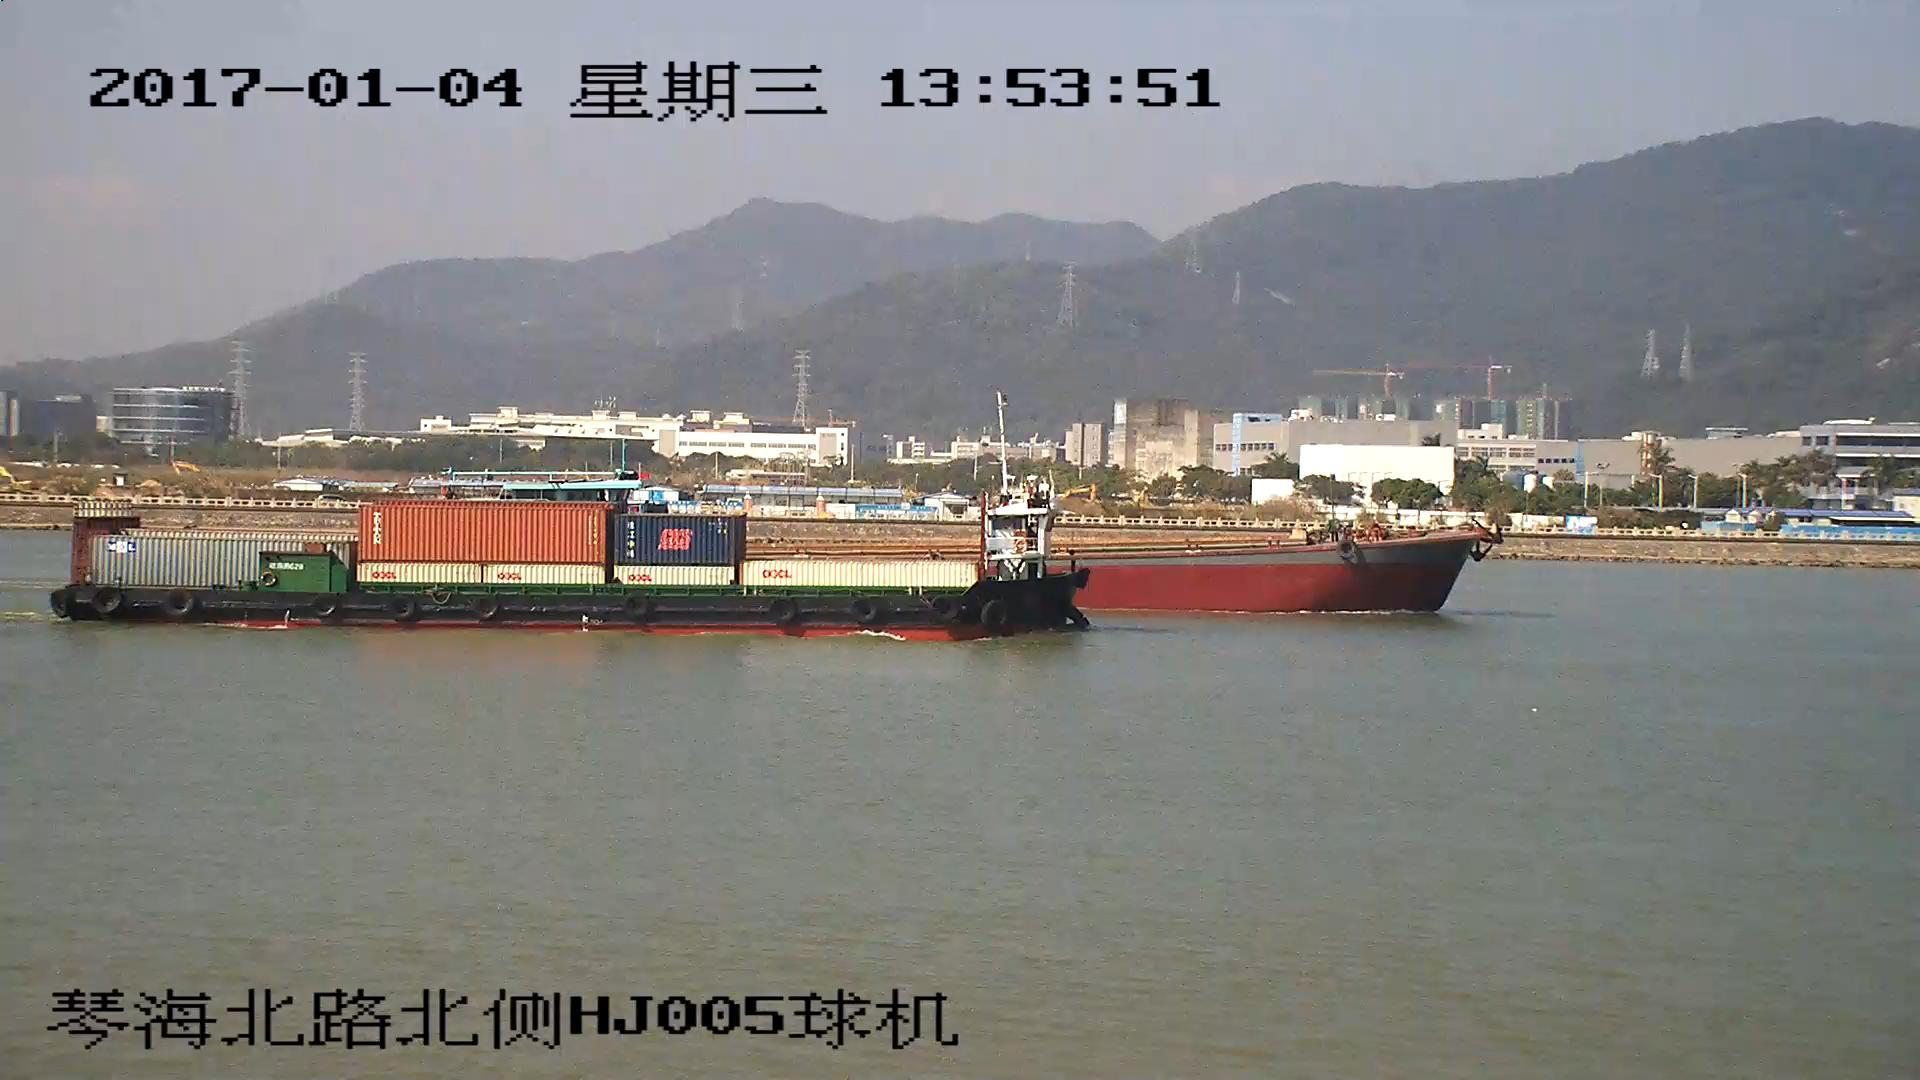Ship: (50, 498, 1091, 629), (1088, 501, 1487, 615)
